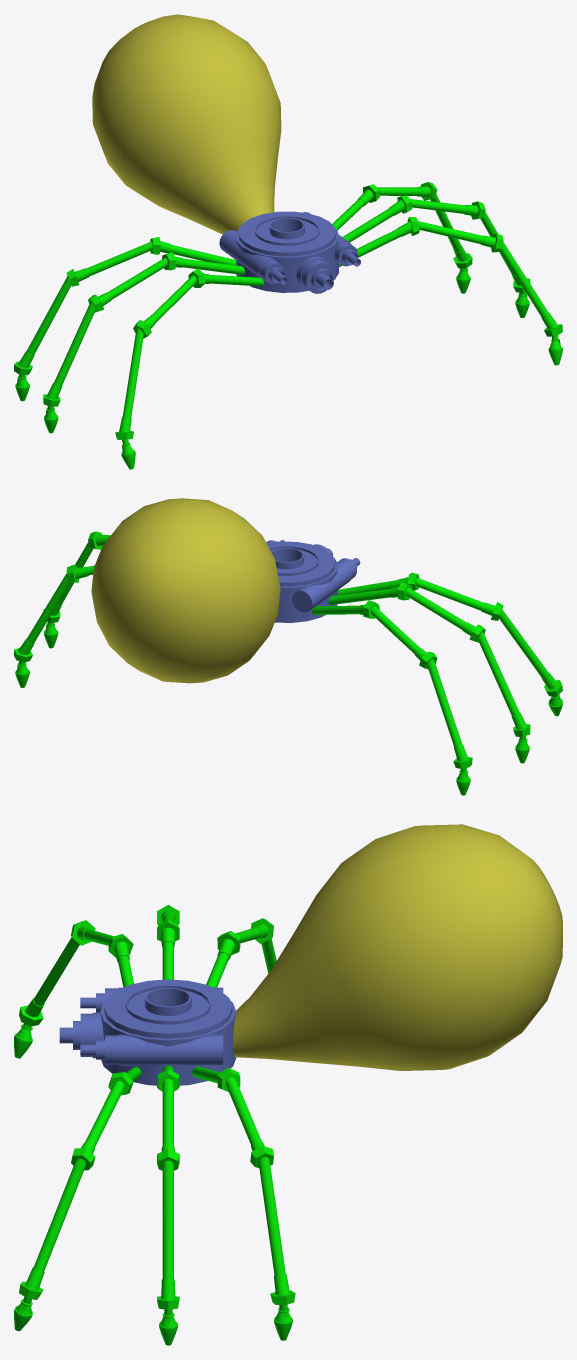
File: Spider.fbx
3 renders of one model, top to bottom at view 1: azimuth 30°, elevation 25°; view 2: azimuth 150°, elevation 25°; view 3: azimuth 270°, elevation 25°, orthographic. The views are drawn at different scales.
Parts seen in each view (by area): view 1: polySurface495; view 2: polySurface495; view 3: polySurface495.
Boxes of the visible parts, box(x1,y1,x2,y2) form: polySurface495: box(14, 14, 562, 469); polySurface495: box(14, 498, 562, 795); polySurface495: box(14, 824, 562, 1345).
Bounding box in the file's own units: 17.39 × 9.49 × 12.95.
